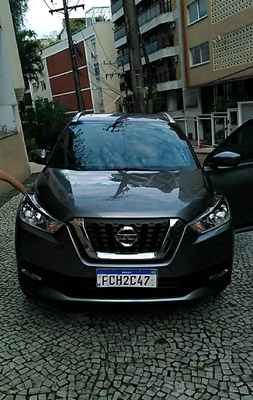Frontal Veiculo: (16, 113, 242, 312)
